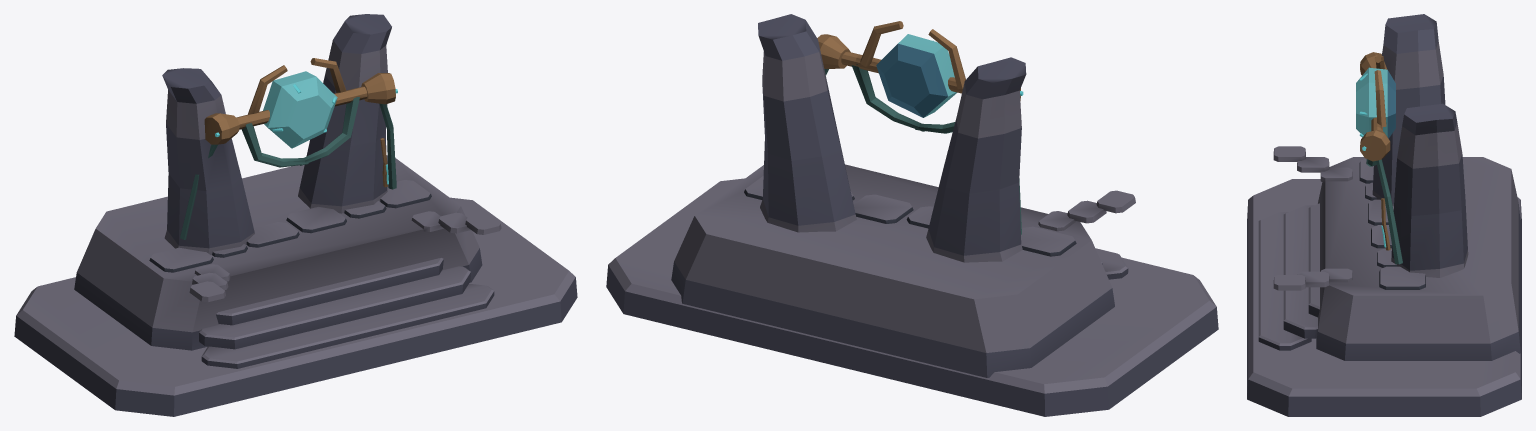
Rendered from sanctuary-calibration.glb.
3 views of the same model, side by side, from view 1: azimuth 30°, elevation 25°; view 2: azimuth 150°, elevation 25°; view 3: azimuth 270°, elevation 25° (orthographic). The views are drawn at different scales.
Visible parts, largest first — view 1: sanctuary-calibration, Calibration_Pivot; view 2: sanctuary-calibration, Calibration_Pivot; view 3: sanctuary-calibration, Calibration_Pivot.
Part boxes in pixels (x1,y1,x2,y2): sanctuary-calibration: (14, 14, 577, 416); Calibration_Pivot: (236, 58, 367, 167); sanctuary-calibration: (606, 14, 1218, 416); Calibration_Pivot: (841, 21, 965, 133); sanctuary-calibration: (1247, 14, 1521, 416); Calibration_Pivot: (1356, 55, 1395, 166).
Size of the model in its own units: 9.8 by 5.22 by 5.28.
